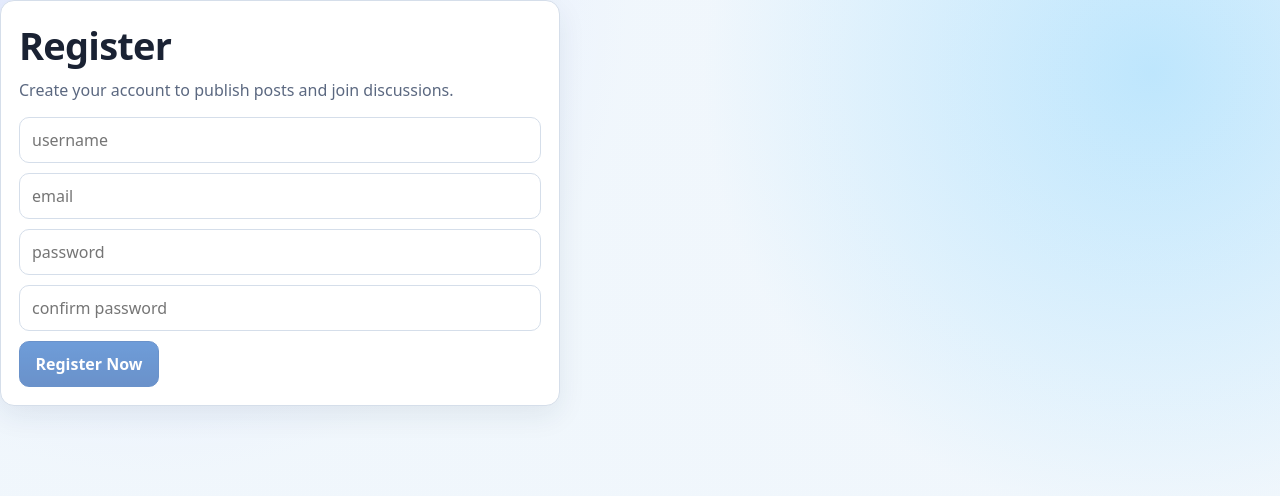
Test: RegisterPage › shows validation error when password and confirm password mismatch
Step 1. Type "asdf" into the field with placeholder "username" → {"x": 280, "y": 140}, box left=19, top=117, right=541, bottom=163
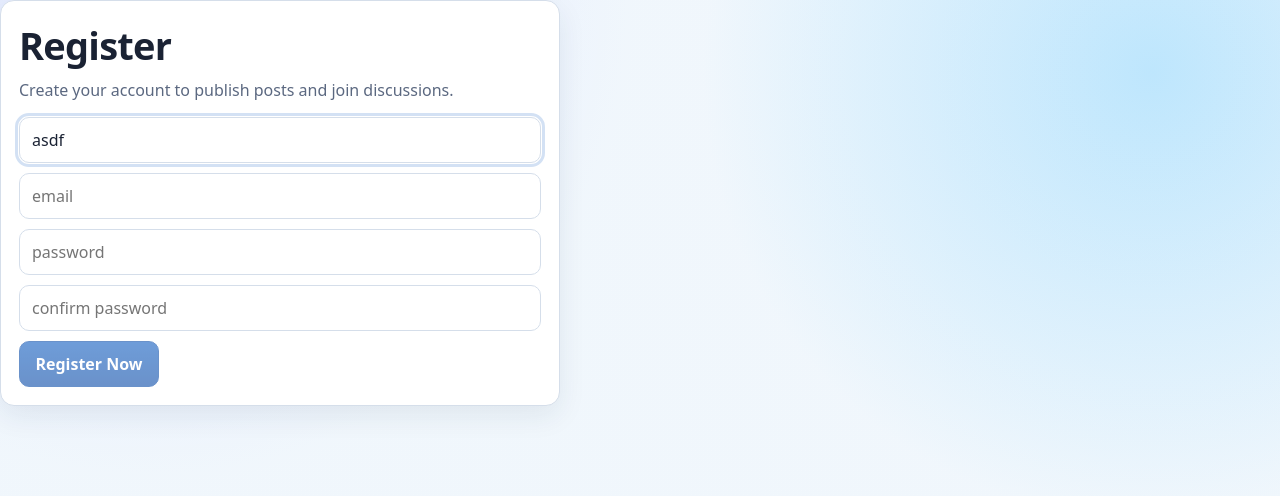
Step 2. Type "asdf.asdf@example.com" into the field with placeholder "email" → {"x": 280, "y": 196}, box left=19, top=173, right=541, bottom=219
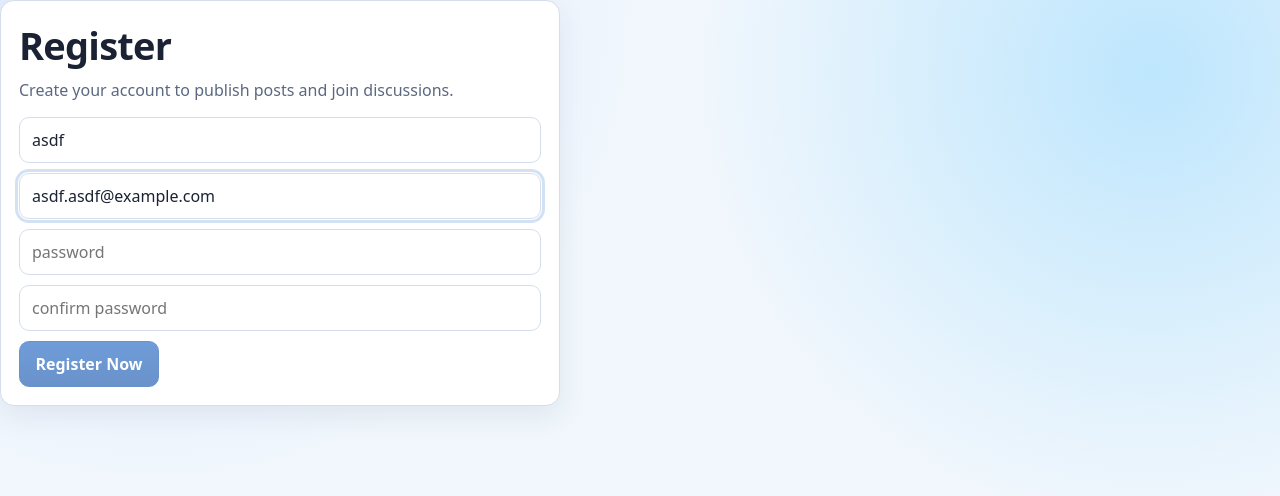
Step 3. Type "Asdf@1234" into the password field with placeholder "password" → {"x": 280, "y": 252}, box left=19, top=229, right=541, bottom=275
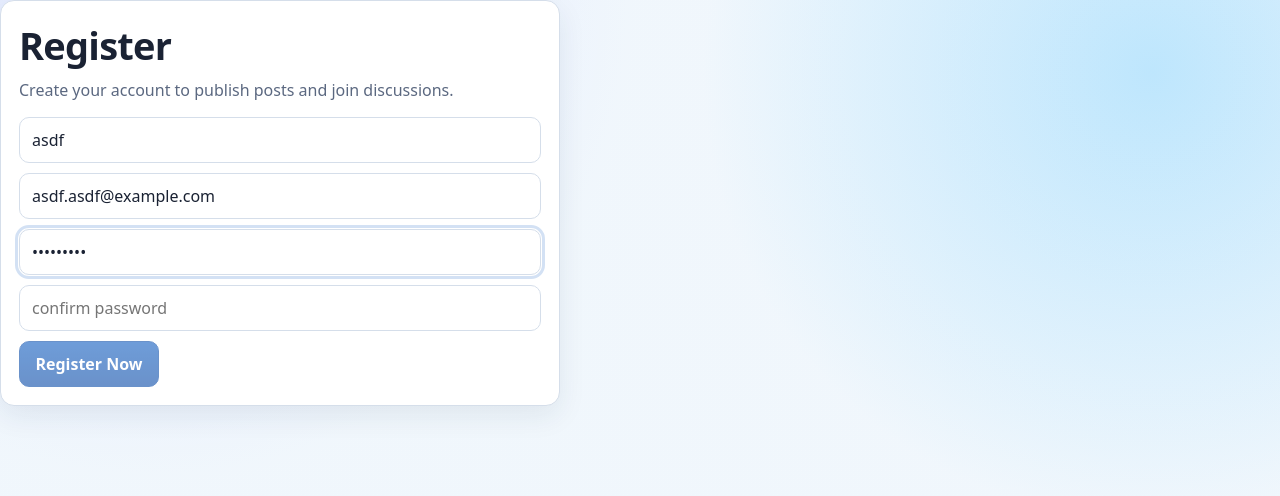
Step 4. Type "Asdf@1235" into the password field with placeholder "confirm password" → {"x": 280, "y": 308}, box left=19, top=285, right=541, bottom=331
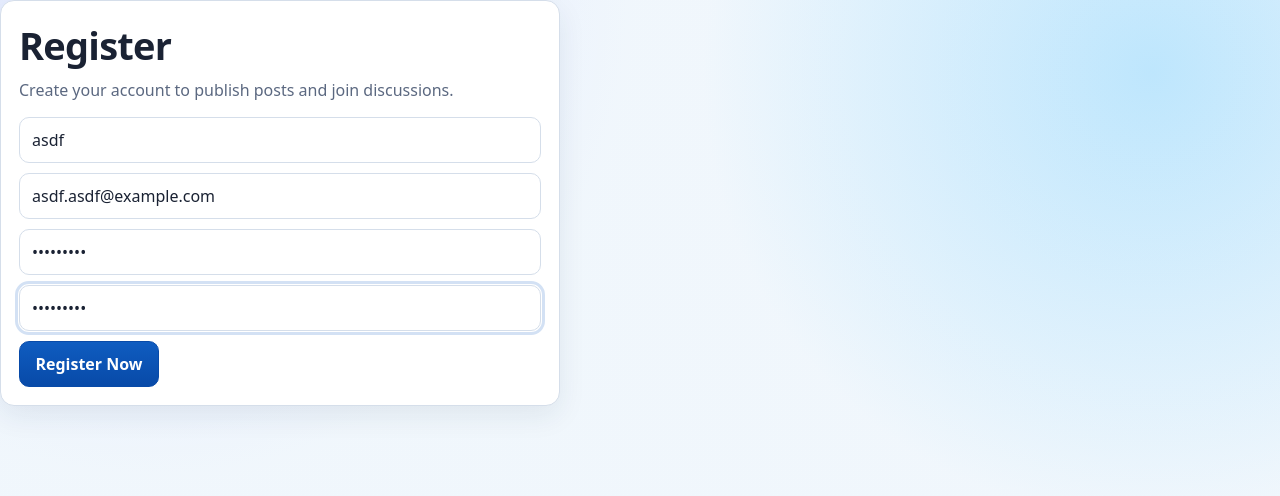
Step 5. Click the button "Register Now" → {"x": 89, "y": 364}, box left=19, top=341, right=159, bottom=387
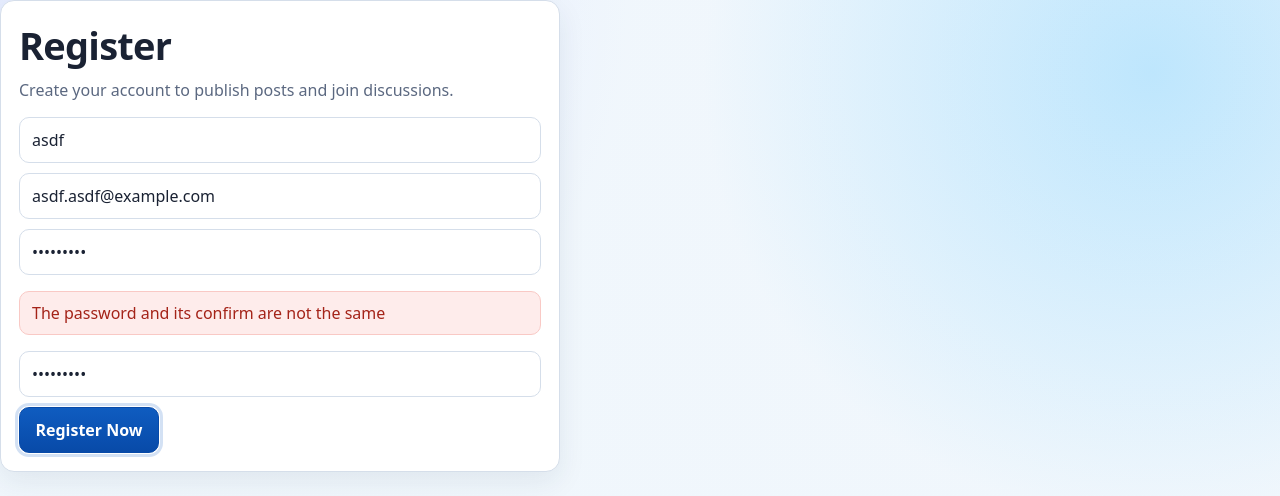
Expected: the text "The password and its confirm are not the same" is shown, left=19, top=291, right=541, bottom=335
